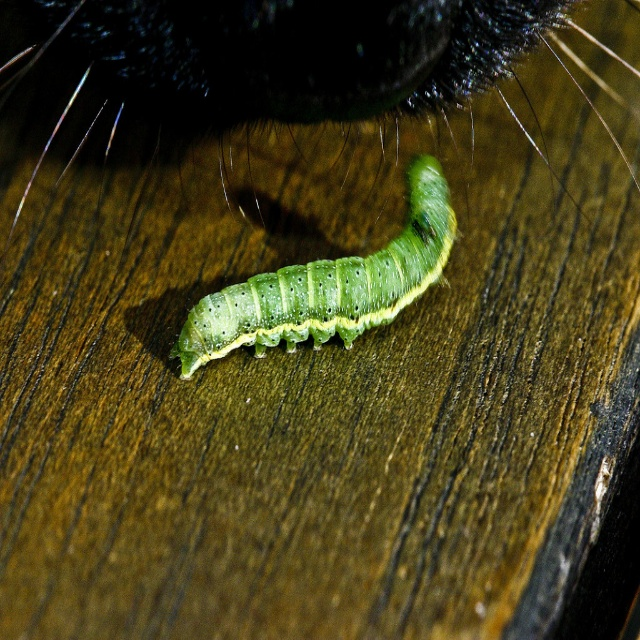Caterpillar: (168, 141, 464, 379)
